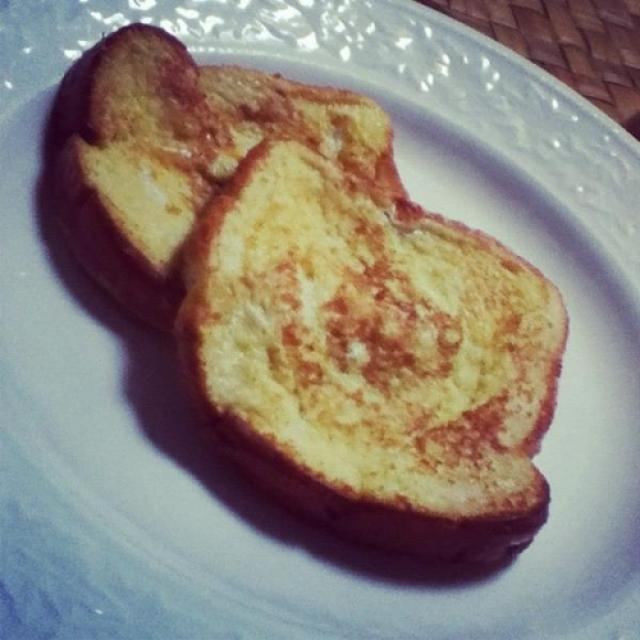面包点心: (12, 16, 616, 604)
